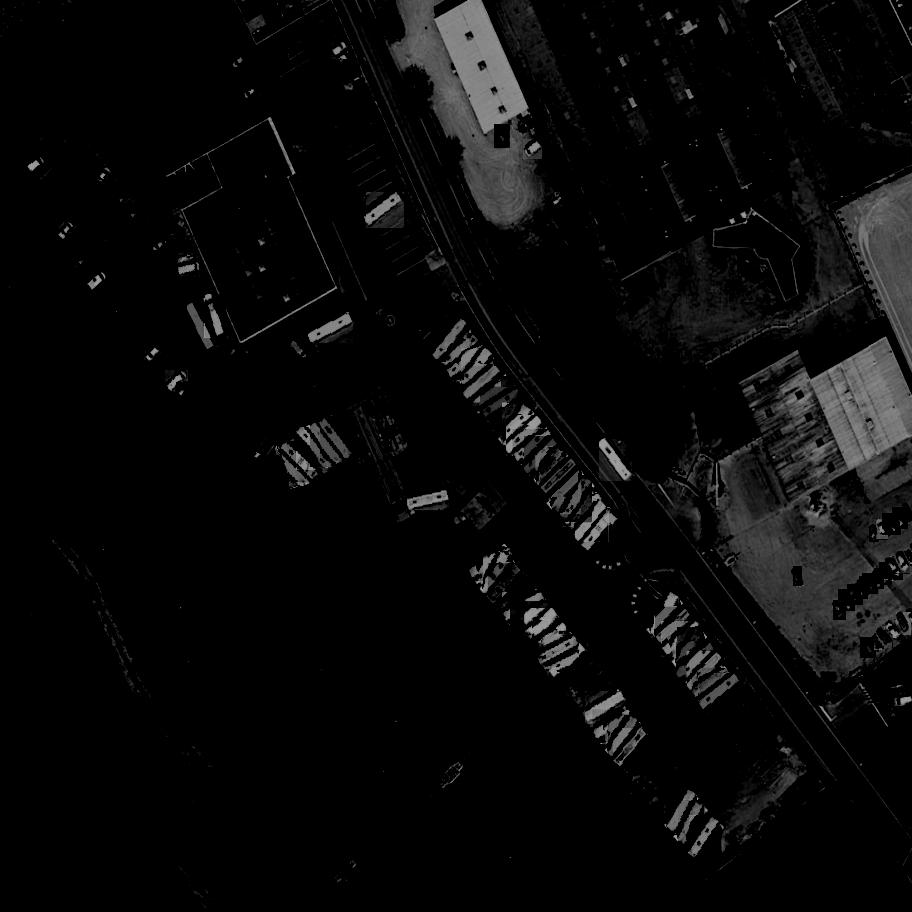large-vehicle: (296, 427, 339, 471), (430, 316, 470, 363), (676, 642, 721, 682), (698, 674, 743, 714), (319, 416, 358, 461), (444, 342, 490, 380), (558, 475, 594, 523), (279, 442, 321, 483), (488, 563, 526, 608), (689, 816, 725, 862), (580, 512, 620, 553), (505, 416, 546, 456), (540, 458, 580, 499), (687, 651, 726, 693), (310, 423, 346, 468), (187, 302, 218, 354), (469, 377, 515, 412), (613, 728, 650, 770), (599, 439, 635, 482), (512, 429, 556, 464), (480, 387, 525, 421), (551, 466, 582, 515), (364, 193, 405, 230), (661, 621, 703, 657), (575, 500, 610, 543), (438, 333, 481, 368), (468, 548, 515, 580), (584, 691, 628, 725), (549, 642, 588, 680), (655, 607, 693, 646), (524, 437, 562, 476), (463, 367, 504, 403), (608, 714, 640, 760), (563, 494, 606, 528), (307, 312, 354, 343), (666, 791, 699, 835), (502, 403, 532, 451), (501, 592, 547, 623), (535, 636, 581, 667), (511, 602, 554, 635), (531, 620, 571, 655), (461, 349, 494, 391), (483, 552, 513, 598), (592, 710, 635, 742), (651, 593, 680, 640), (536, 447, 566, 492), (676, 626, 704, 673), (692, 669, 733, 701), (276, 443, 302, 491), (525, 609, 561, 643), (678, 801, 705, 846), (205, 294, 228, 339), (407, 489, 450, 510)
small-vehicle: (164, 370, 189, 396), (288, 337, 311, 361), (58, 219, 79, 242), (177, 260, 203, 278), (884, 558, 905, 580), (881, 513, 902, 535), (885, 620, 905, 642), (26, 154, 48, 174), (335, 49, 355, 70), (838, 589, 857, 611), (876, 626, 895, 648), (494, 124, 512, 147), (270, 50, 290, 70), (523, 140, 544, 159), (261, 354, 279, 376), (250, 448, 268, 470), (125, 315, 147, 333), (894, 551, 911, 574), (895, 613, 912, 636), (227, 424, 247, 443), (847, 584, 865, 605), (862, 573, 880, 594), (151, 238, 172, 256), (231, 55, 250, 74), (860, 638, 878, 658), (97, 166, 115, 186), (104, 287, 121, 308), (111, 296, 128, 317), (331, 42, 350, 60), (145, 347, 164, 365), (108, 183, 128, 200), (893, 508, 909, 529), (242, 84, 261, 101), (177, 383, 194, 402), (880, 562, 894, 585), (74, 253, 92, 270), (832, 600, 847, 620), (126, 207, 146, 222), (21, 148, 37, 166), (66, 245, 84, 261), (876, 518, 889, 540), (176, 254, 195, 269), (117, 191, 135, 206), (875, 568, 885, 589), (859, 577, 868, 599), (241, 77, 258, 88), (869, 526, 880, 542), (793, 567, 801, 585), (874, 634, 882, 651)
